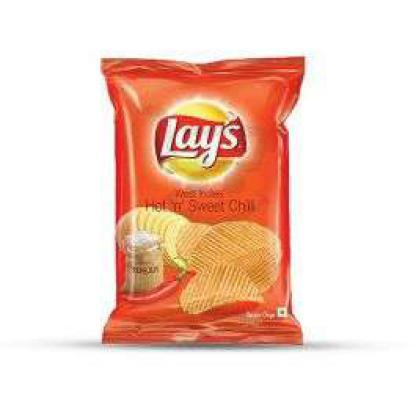hot_and_sweet: (99, 53, 309, 350)
